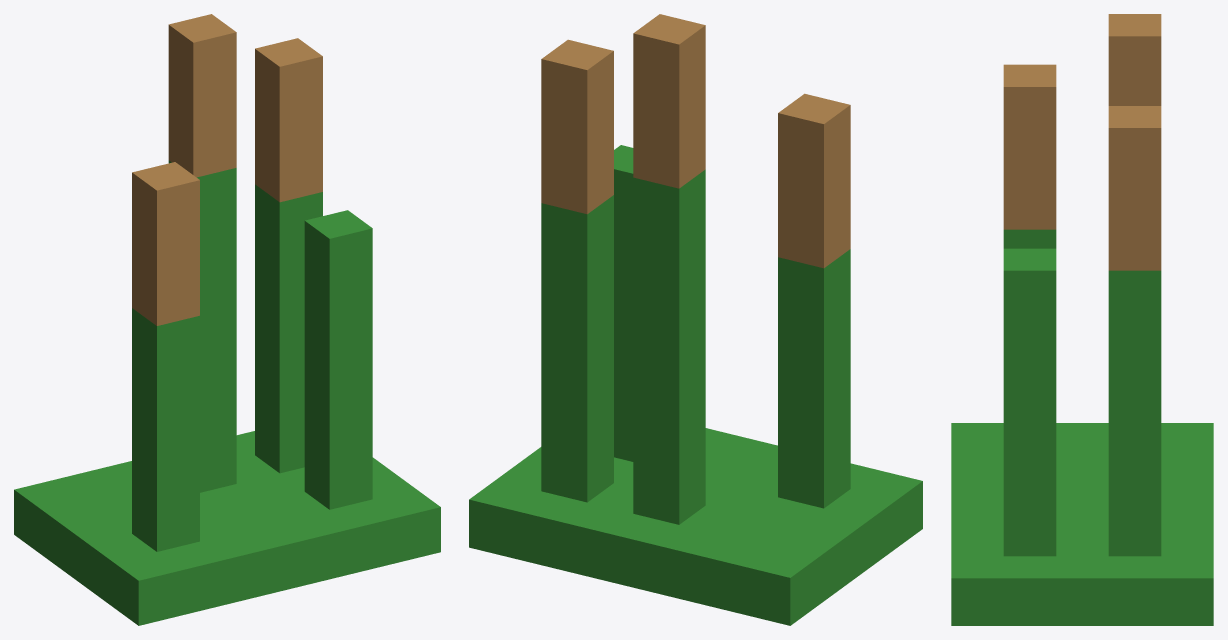
Rendered from deco_reeds.glb.
3 views of the same model, side by side, from view 1: azimuth 30°, elevation 25°; view 2: azimuth 150°, elevation 25°; view 3: azimuth 270°, elevation 25° (orthographic). The views are drawn at different scales.
Visible parts, largest first — view 1: model_0; view 2: model_0; view 3: model_0.
Boxes of the visible parts, x1,y1,x2,y2 form: model_0: (14,14,440,625); model_0: (469,14,922,625); model_0: (951,14,1213,625).
Size of the model in its own units: 0.28 by 0.44 by 0.2.
